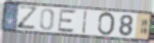0: (39, 8, 56, 31)
8: (119, 14, 134, 37)
E: (57, 9, 77, 34)
I: (82, 10, 89, 35)
O: (96, 12, 115, 37)
Z: (16, 4, 40, 30)
